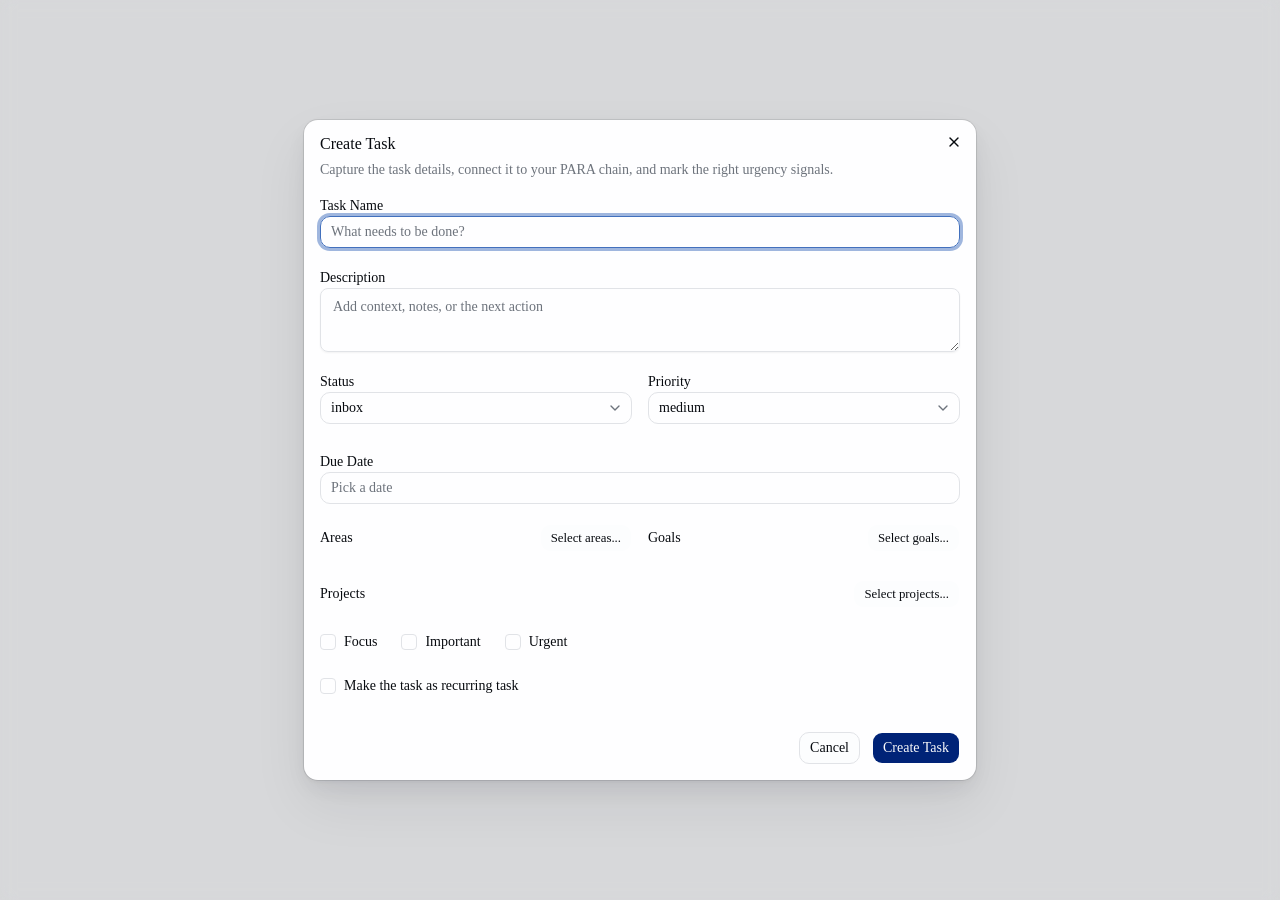
Scenario: TaskDialog recurring-task UI › hides the recurrence panel when the checkbox is toggled off again
Click the checkbox next to "Make the task as recurring task" at (328,686), box [320,678,336,694]
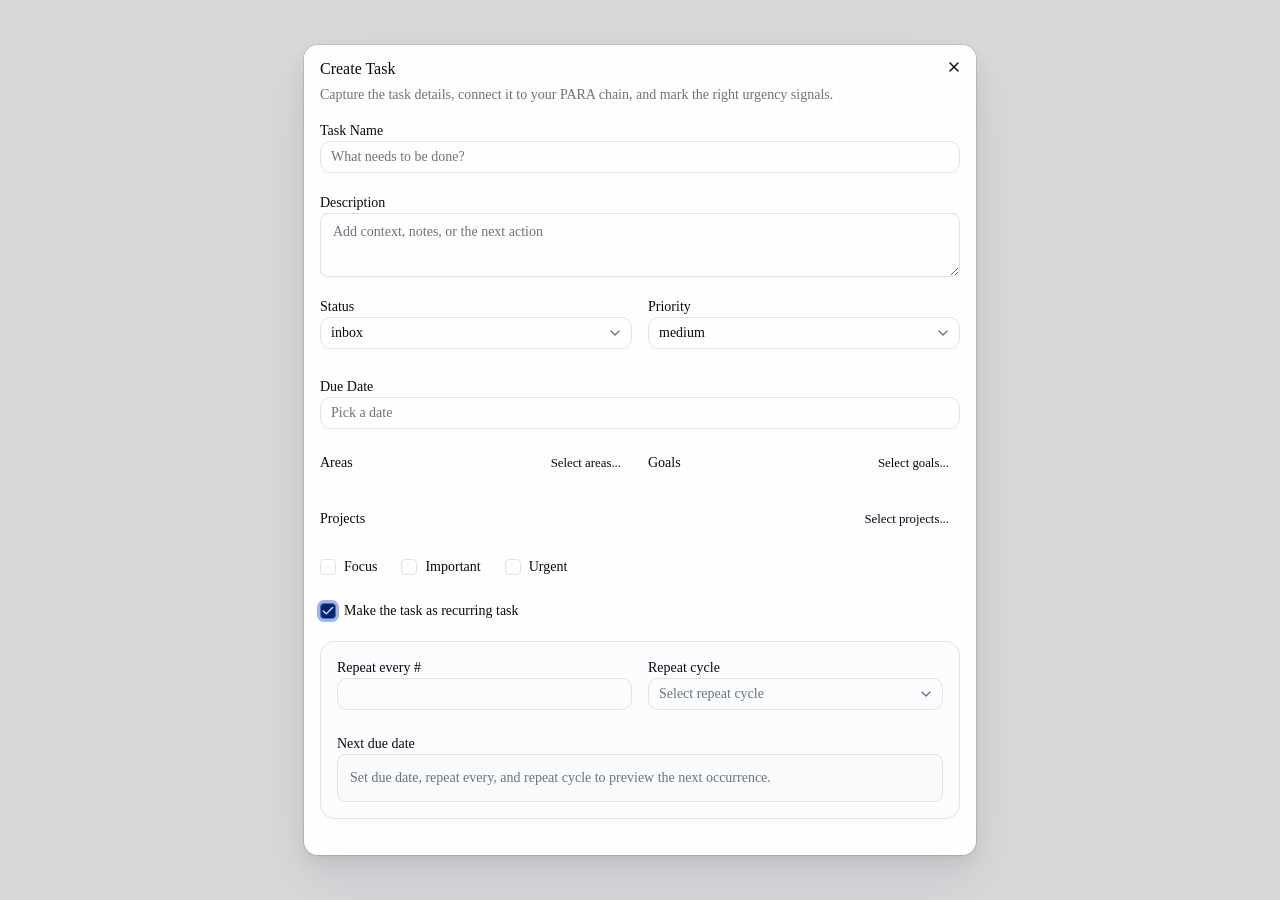
Expected: the element with test id "task-dialog-recurrence-panel" is shown, [320,641,960,819]
Click the checkbox next to "Make the task as recurring task" at (328,611), box [320,603,336,619]
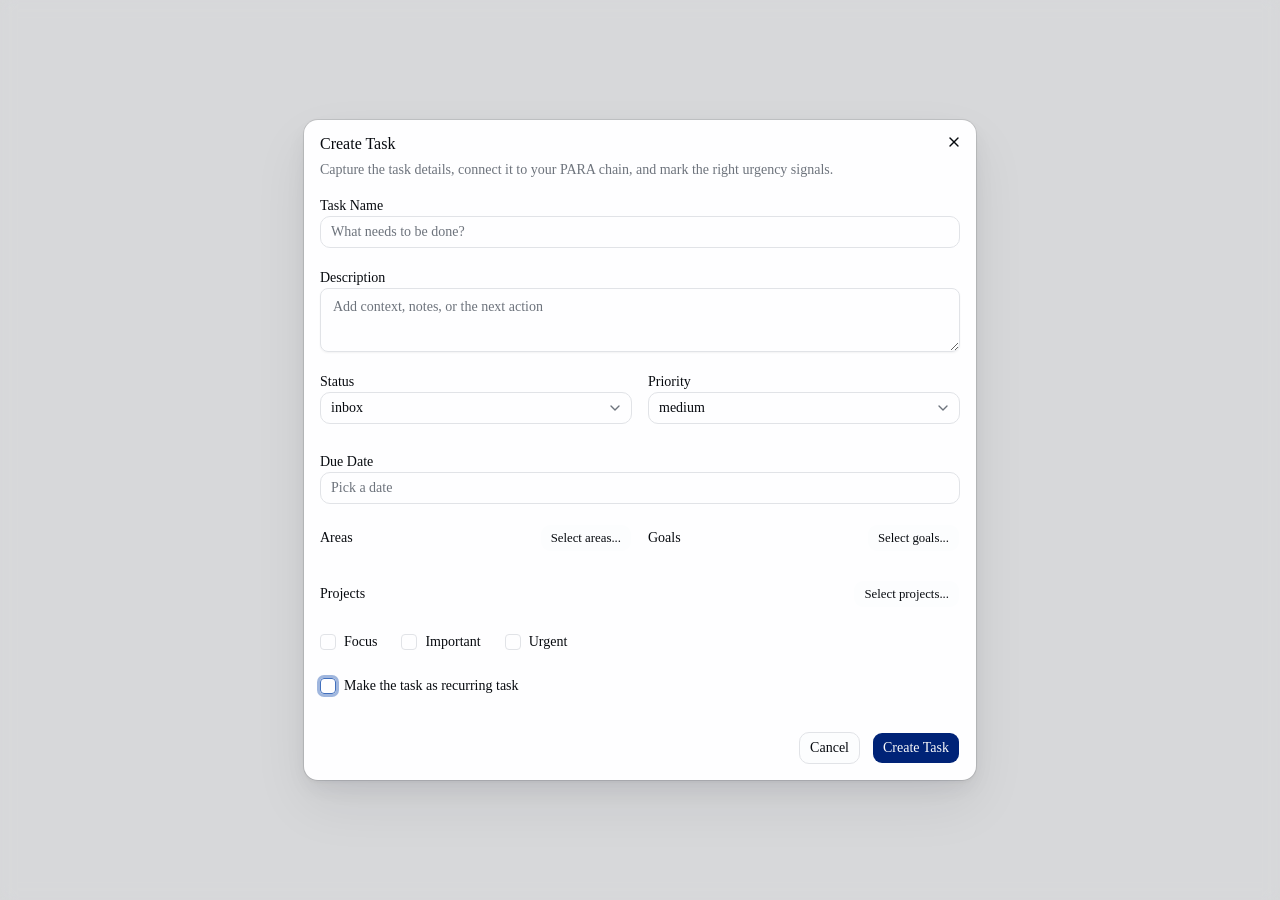
Expected: the element with test id "task-dialog-recurrence-panel" is gone
